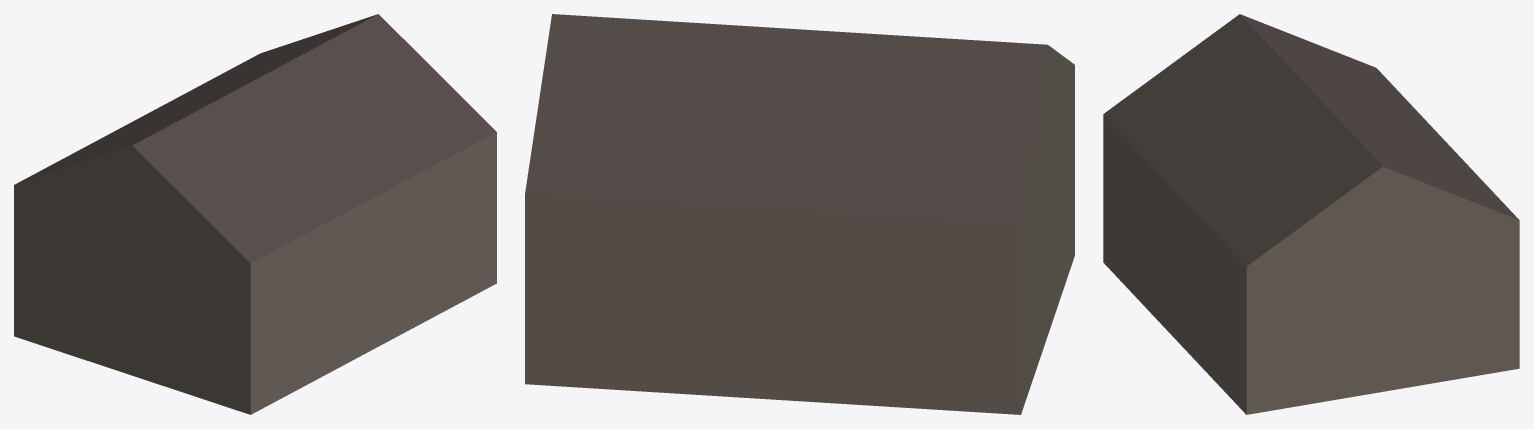
3 views of the same model, side by side, from view 1: azimuth 30°, elevation 25°; view 2: azimuth 150°, elevation 25°; view 3: azimuth 270°, elevation 25° (orthographic). The views are drawn at different scales.
Parts seen in each view (by area): view 1: HP-w369342587; view 2: HP-w369342587; view 3: HP-w369342587.
Boxes of the visible parts, x1,y1,x2,y2 form: HP-w369342587: (14,14,496,414); HP-w369342587: (525,14,1074,414); HP-w369342587: (1103,14,1519,414).
Size of the model in its own units: 25.89 by 13.68 by 22.92.
